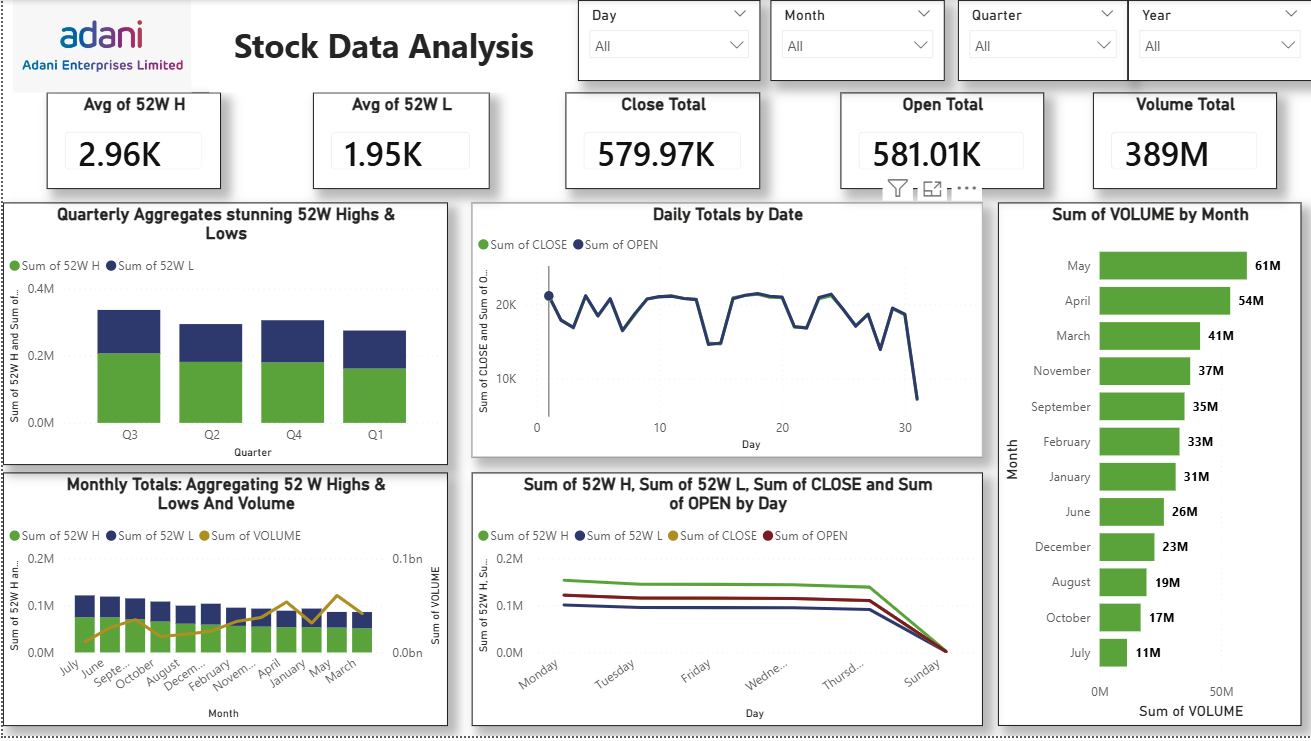

Layout of this report page (visuals, bound fields, positions):
{"tool":"powerbi","page":{"name":"Page 1","canvas":[1280,720],"ordinal":0},"visuals":[{"type":"slicer","fields":{"Values":["Quote-Equity-ADANIENT-EQ-01-06-.        Day"]},"box":[562.6,0,178.4,79.6],"z":0},{"type":"slicer","fields":{"Values":["Quote-Equity-ADANIENT-EQ-01-06-.     Month"]},"box":[750.6,0,170.2,79.6],"z":1000},{"type":"slicer","fields":{"Values":["Quote-Equity-ADANIENT-EQ-01-06-.Quarter"]},"box":[934.5,0,166,79.6],"z":2000},{"type":"slicer","fields":{"Values":["Quote-Equity-ADANIENT-EQ-01-06-.      Year"]},"box":[1100.5,0,179.8,79.6],"z":3000},{"type":"cardVisual","title":"Avg of 52W H","fields":{"Data":["Avg(Quote-Equity-ADANIENT-EQ-01-06-.52W H)"]},"box":[42.5,90.6,170.2,94.7],"z":4000},{"type":"cardVisual","title":"Avg of 52W L","fields":{"Data":["Avg(Quote-Equity-ADANIENT-EQ-01-06-.52W L)"]},"box":[303.3,90.6,172.9,94.7],"z":5000},{"type":"cardVisual","title":"Close Total","fields":{"Data":["Sum(Quote-Equity-ADANIENT-EQ-01-06-.CLOSE)"]},"box":[550.3,90.6,190.7,94.7],"z":6000},{"type":"cardVisual","title":"Open Total","fields":{"Data":["Sum(Quote-Equity-ADANIENT-EQ-01-06-.OPEN)"]},"box":[819.2,90.6,199,94.7],"z":7000},{"type":"cardVisual","title":"Volume Total","fields":{"Data":["Sum(Quote-Equity-ADANIENT-EQ-01-06-.VOLUME)"]},"box":[1066.2,90.6,179.8,94.7],"z":8000},{"type":"columnChart","title":"Quarterly Aggregates stunning 52W Highs & Lows","fields":{"Y":["Sum(Quote-Equity-ADANIENT-EQ-01-06-.52W H)","Sum(Quote-Equity-ADANIENT-EQ-01-06-.52W L)"],"Category":["Quote-Equity-ADANIENT-EQ-01-06-.Quarter"]},"box":[0,198.1,435.3,256.8],"z":9000},{"type":"lineStackedColumnComboChart","title":"Monthly Totals: Aggregating 52 W Highs & Lows And Volume","fields":{"Y":["Sum(Quote-Equity-ADANIENT-EQ-01-06-.52W H)","Sum(Quote-Equity-ADANIENT-EQ-01-06-.52W L)"],"Category":["Quote-Equity-ADANIENT-EQ-01-06-.     Month"],"Y2":["Sum(Quote-Equity-ADANIENT-EQ-01-06-.VOLUME)"]},"box":[0,462.2,435.3,248.2],"z":10000},{"type":"lineChart","title":"Daily Totals by Date ","fields":{"Category":["Quote-Equity-ADANIENT-EQ-01-06-.DATE.Variation.Date Hierarchy.Day"],"Y":["Sum(Quote-Equity-ADANIENT-EQ-01-06-.CLOSE)","Sum(Quote-Equity-ADANIENT-EQ-01-06-.OPEN)"]},"box":[458.6,198.1,500.1,249.5],"z":11000},{"type":"lineChart","fields":{"Y":["Sum(Quote-Equity-ADANIENT-EQ-01-06-.52W H)","Sum(Quote-Equity-ADANIENT-EQ-01-06-.52W L)","Sum(Quote-Equity-ADANIENT-EQ-01-06-.CLOSE)","Sum(Quote-Equity-ADANIENT-EQ-01-06-.OPEN)"],"Category":["Quote-Equity-ADANIENT-EQ-01-06-.        Day"]},"box":[458.6,462.2,500.1,248.2],"z":12000},{"type":"clusteredBarChart","fields":{"Y":["Sum(Quote-Equity-ADANIENT-EQ-01-06-.VOLUME)"],"Category":["Quote-Equity-ADANIENT-EQ-01-06-.     Month"]},"box":[973.4,198.1,297.1,512.4],"z":13000},{"type":"image","box":[9.6,0,174.3,90.6],"z":14000},{"type":"textbox","box":[201.7,0,341.7,90.6],"z":15000}]}

Visuals, with their boxes in screenshot pixels (x1, y1, x2, y2), scaled from the page's 1280x720 canvas onto the 1311x741 screenshot:
slicer - Quote-Equity-ADANIENT-EQ-01-06-.        Day: 576:0:759:82
slicer - Quote-Equity-ADANIENT-EQ-01-06-.     Month: 769:0:943:82
slicer - Quote-Equity-ADANIENT-EQ-01-06-.Quarter: 957:0:1127:82
slicer - Quote-Equity-ADANIENT-EQ-01-06-.      Year: 1127:0:1310:82
"Avg of 52W H" cardVisual: 44:93:218:191
"Avg of 52W L" cardVisual: 311:93:488:191
"Close Total" cardVisual: 564:93:759:191
"Open Total" cardVisual: 839:93:1043:191
"Volume Total" cardVisual: 1092:93:1276:191
"Quarterly Aggregates stunning 52W Highs & Lows" columnChart: 0:204:446:468
"Monthly Totals: Aggregating 52 W Highs & Lows And Volume" lineStackedColumnComboChart: 0:476:446:731
"Daily Totals by Date " lineChart: 470:204:982:461
lineChart - Sum(Quote-Equity-ADANIENT-EQ-01-06-.52W H) x Sum(Quote-Equity-ADANIENT-EQ-01-06-.52W L): 470:476:982:731
clusteredBarChart - Sum(Quote-Equity-ADANIENT-EQ-01-06-.VOLUME) x Quote-Equity-ADANIENT-EQ-01-06-.     Month: 997:204:1301:731
image: 10:0:188:93
textbox: 207:0:557:93
